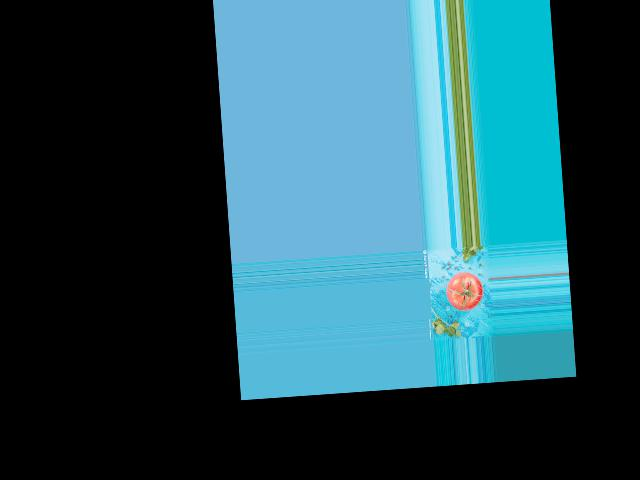tomato: (445, 271, 484, 312)
